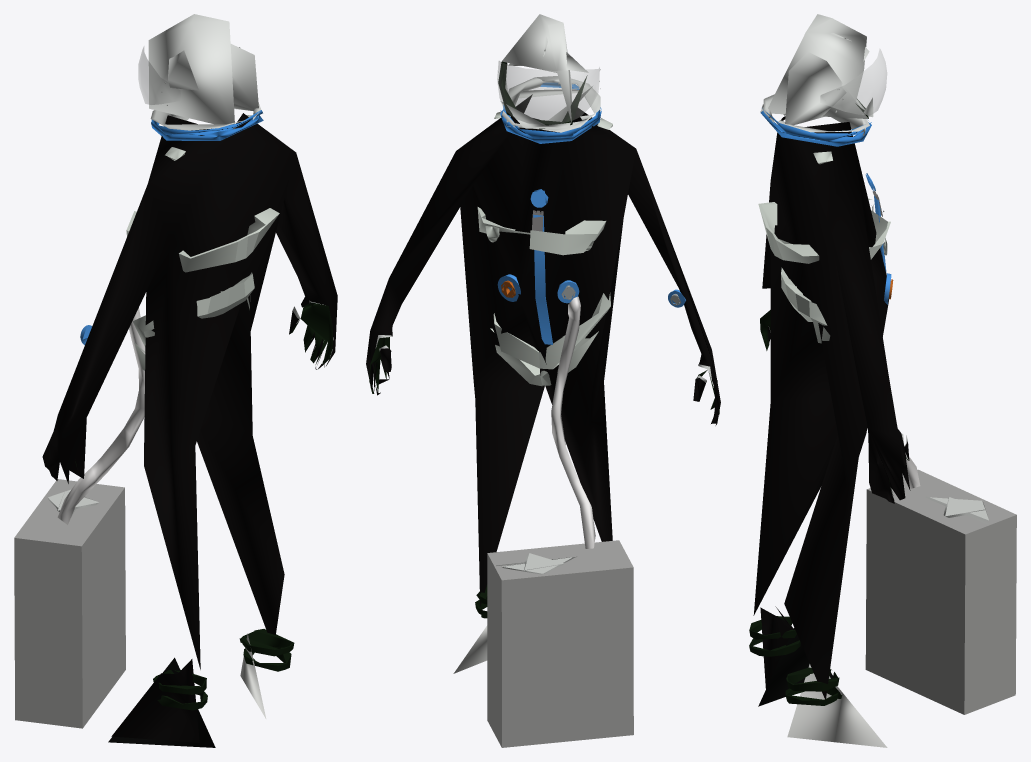
The model's file is gemini-spacesuit.glb.
The picture shows the model from 3 angles, left to right: view 1: azimuth 30°, elevation 25°; view 2: azimuth 150°, elevation 25°; view 3: azimuth 270°, elevation 25°; orthographic projection. The views are drawn at different scales.
Parts seen in each view (by area): view 1: GeminiSuit:polySurface1; view 2: GeminiSuit:polySurface1; view 3: GeminiSuit:polySurface1.
Part boxes in pixels (x1,y1,x2,y2): GeminiSuit:polySurface1: (14,14,337,747); GeminiSuit:polySurface1: (366,14,720,747); GeminiSuit:polySurface1: (749,14,1016,747).
Size of the model in its own units: 0.9715 by 2 by 0.6899.
6 materials, 6 textured.
